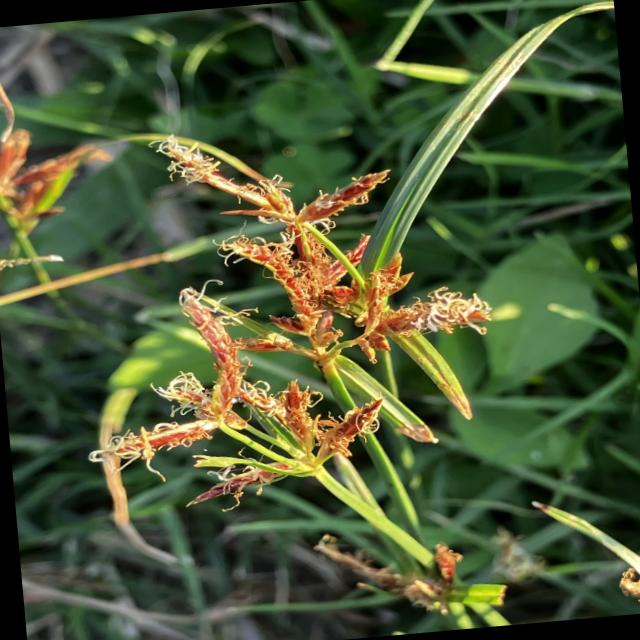cyperus: (47, 90, 596, 562), (0, 45, 117, 295)
